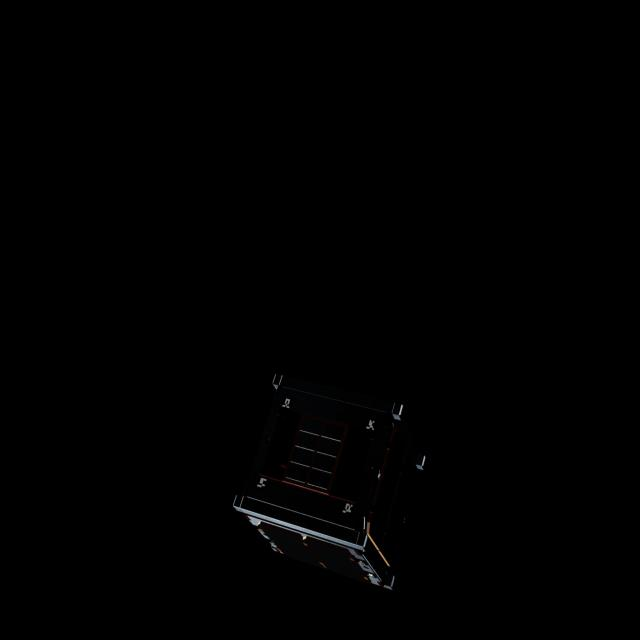medium_debris: (239, 364, 430, 598)
